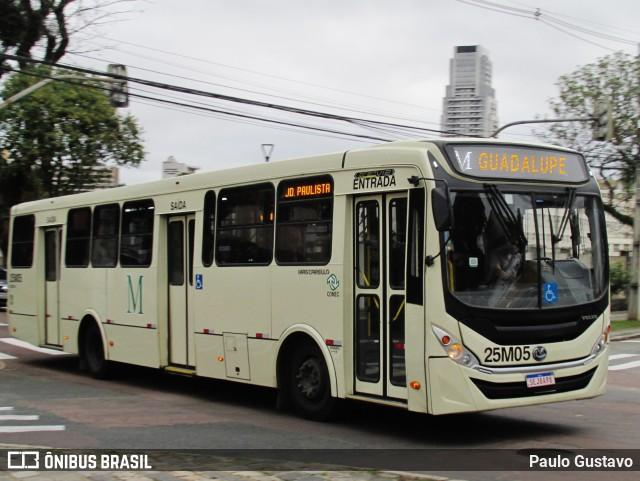GUADALUPE: (474, 149, 569, 178)
